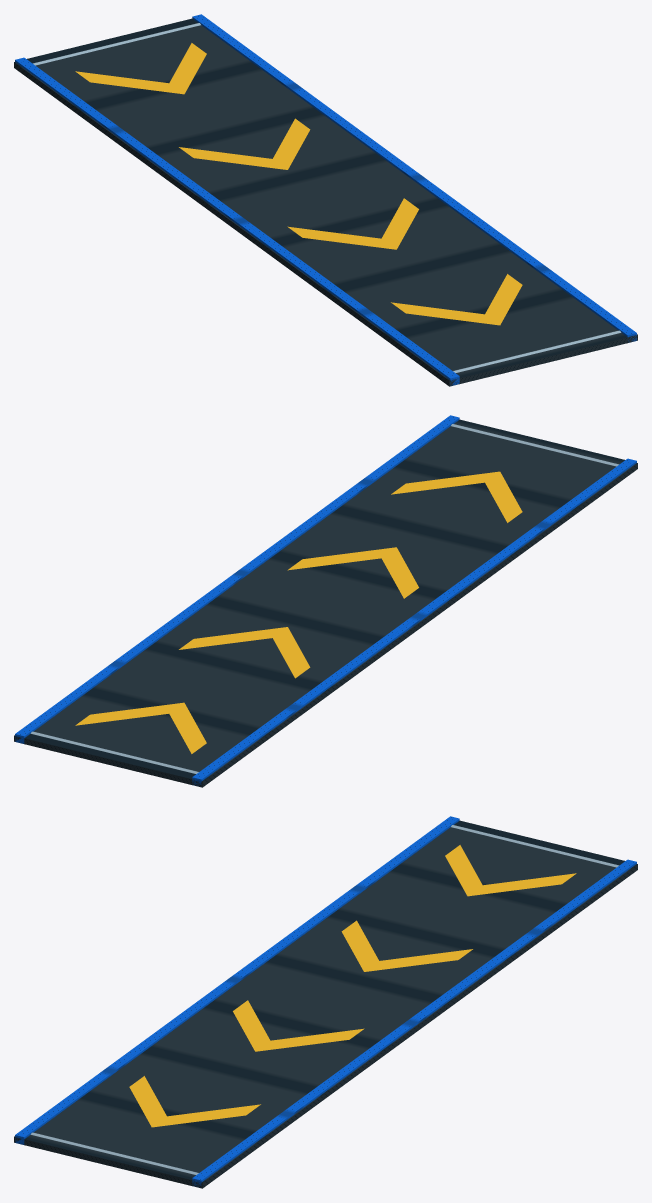
Rendered from terrain-conveyor-north-1x4.glb.
The picture shows the model from 3 angles, top to bottom: view 1: azimuth 30°, elevation 25°; view 2: azimuth 150°, elevation 25°; view 3: azimuth 330°, elevation 25°; orthographic projection.
Parts seen in each view (by area): view 1: terrain-conveyor-north-1x4; view 2: terrain-conveyor-north-1x4; view 3: terrain-conveyor-north-1x4.
Part boxes in pixels (bbox=[...]): terrain-conveyor-north-1x4: bbox=[14, 14, 637, 386]; terrain-conveyor-north-1x4: bbox=[14, 415, 637, 787]; terrain-conveyor-north-1x4: bbox=[14, 816, 637, 1188].
Size of the model in its own units: 1 by 0.04 by 4.
1 material, 1 textured.
